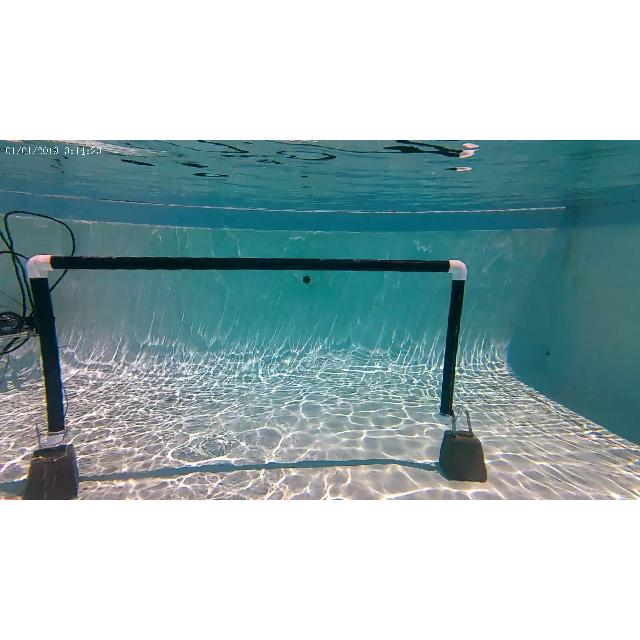prequal gate: (26, 254, 468, 448)
prequal gate leg l: (24, 254, 80, 442)
prequal gate leg r: (434, 255, 468, 420)
